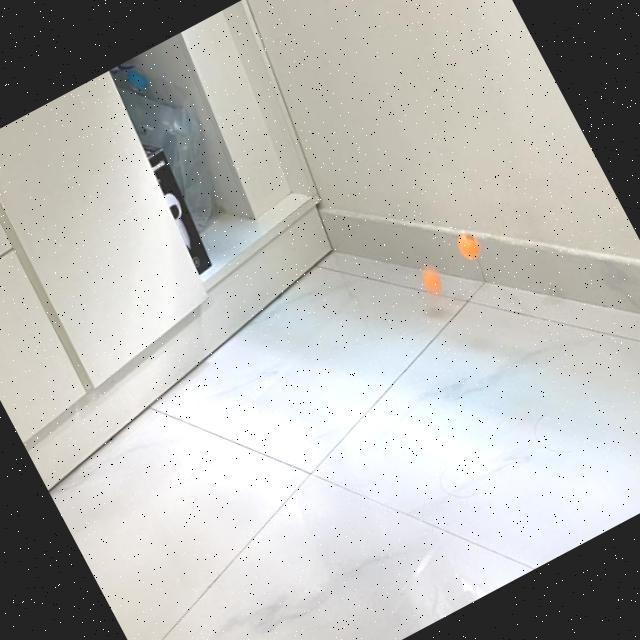ping-pong-ball: (452, 228, 486, 264), (418, 262, 446, 296)
